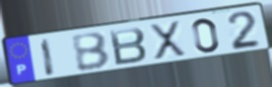0: (191, 17, 220, 54)
2: (226, 10, 264, 52)
B: (69, 31, 112, 73), (107, 26, 149, 67)
I: (39, 37, 57, 78)
X: (148, 19, 189, 61)
